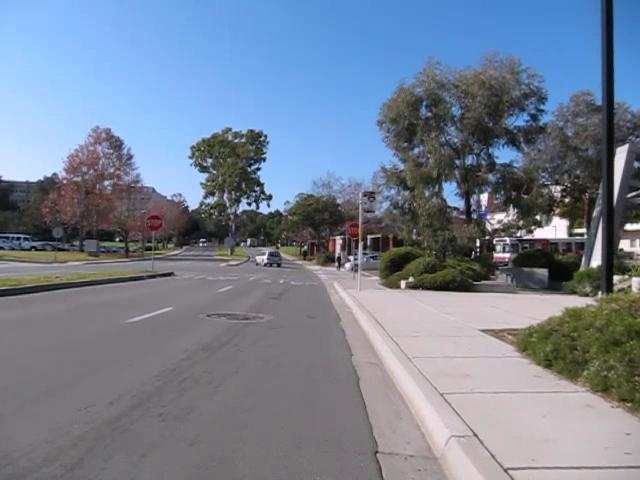stop: (145, 213, 163, 232)
